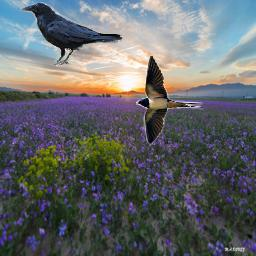Crow: (20, 2, 124, 67)
Swallow: (136, 54, 204, 146)
